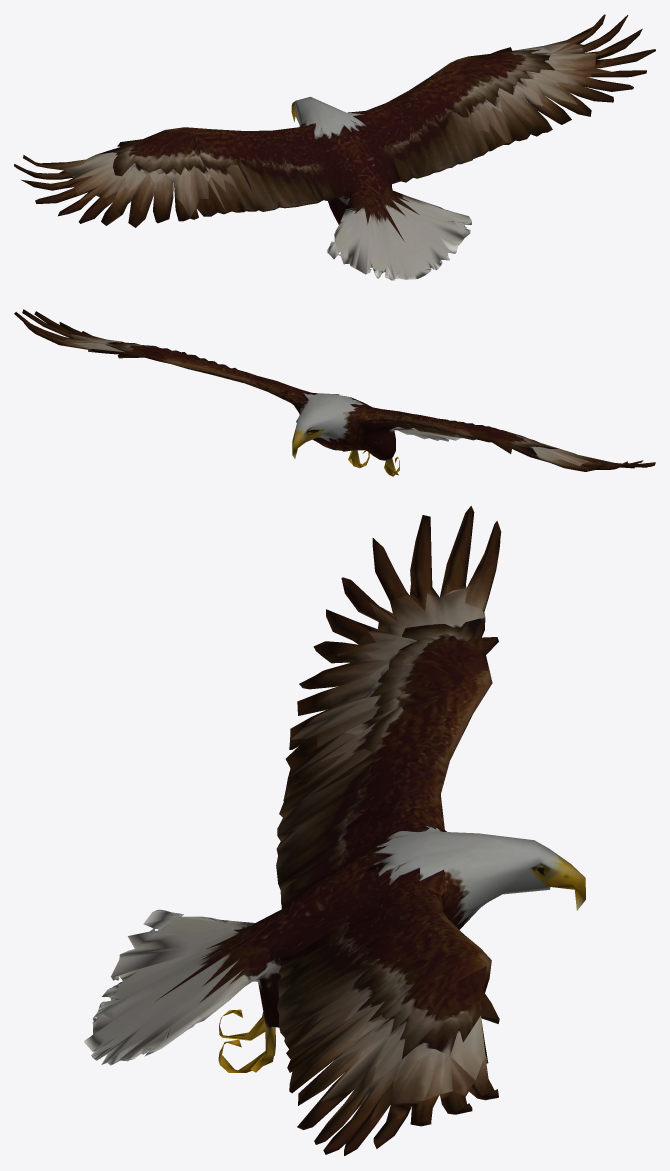
The model's file is eagle.glb.
3 renders of one model, top to bottom at view 1: azimuth 30°, elevation 25°; view 2: azimuth 150°, elevation 25°; view 3: azimuth 270°, elevation 25°, orthographic. The views are drawn at different scales.
Visible parts, largest first — view 1: eagle; view 2: eagle; view 3: eagle.
Part boxes in pixels (left/top/right/bottom): eagle: left=14, top=14, right=655, bottom=280; eagle: left=14, top=309, right=655, bottom=476; eagle: left=84, top=506, right=585, bottom=1155.
Bounding box in the file's own units: 2 × 0.3916 × 0.7008.
Materials: 1 (1 with a texture image).
